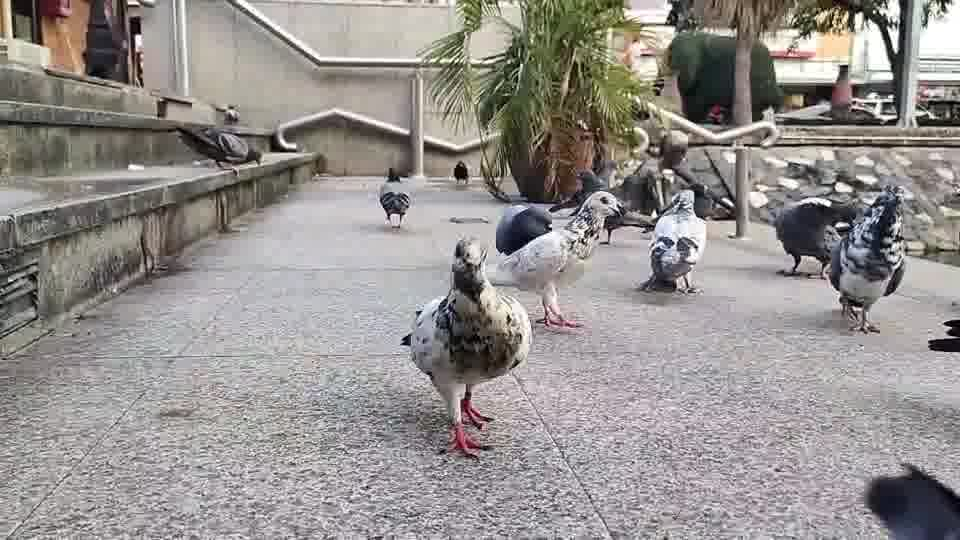Pigeon: (399, 234, 533, 459), (493, 189, 625, 330), (826, 183, 907, 334), (633, 188, 707, 295), (766, 195, 859, 279), (866, 461, 959, 539), (175, 124, 263, 174), (376, 166, 415, 228), (453, 160, 469, 184)
